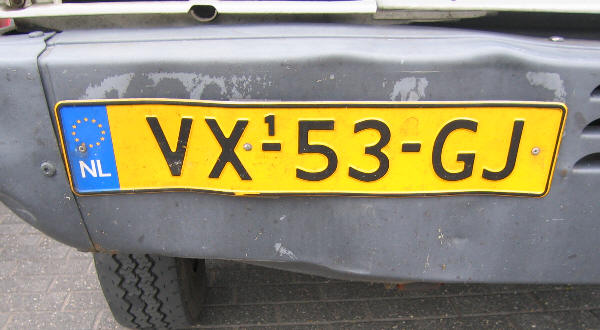license_plate: (56, 99, 569, 196)
